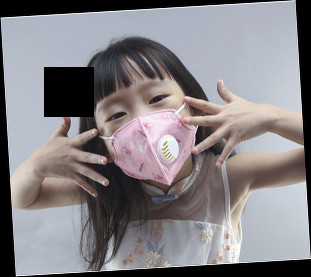with_mask: (96, 77, 197, 188)
